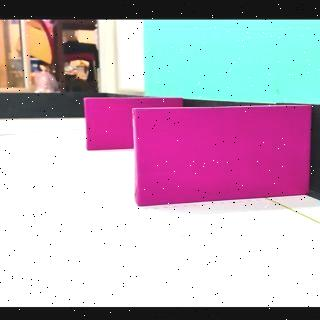xparking: (138, 109, 307, 208), (86, 98, 133, 151)
